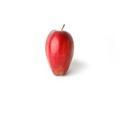apple: (45, 23, 75, 78)
